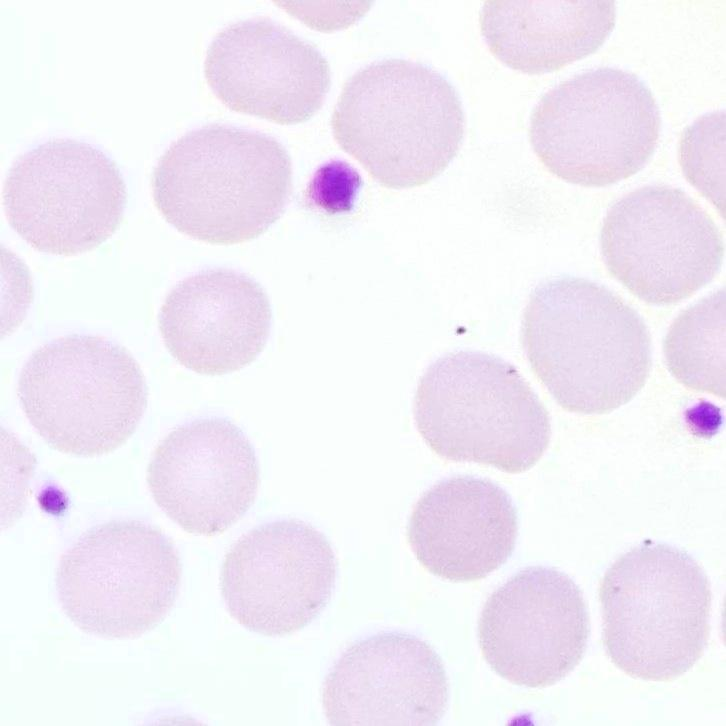Uninfected: (417, 347, 555, 476), (523, 279, 652, 416), (330, 62, 467, 188), (153, 125, 293, 244), (600, 542, 713, 677), (600, 182, 721, 308), (0, 135, 126, 256), (16, 336, 147, 452), (531, 67, 660, 183), (54, 519, 175, 637), (476, 566, 587, 690), (204, 17, 330, 124), (219, 517, 333, 635), (143, 416, 255, 528), (319, 630, 446, 726), (157, 272, 274, 375), (409, 473, 515, 580), (477, 0, 612, 73)
